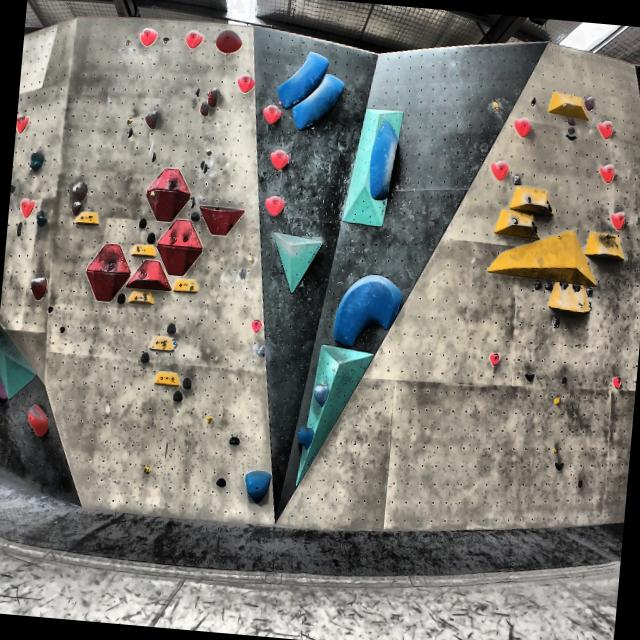Hold: (484, 222, 600, 284), (328, 267, 406, 353), (290, 71, 350, 134), (152, 217, 208, 276), (276, 50, 328, 111), (144, 166, 196, 225), (82, 241, 131, 302), (368, 116, 400, 203), (194, 199, 248, 239), (492, 208, 548, 246), (582, 230, 630, 266), (508, 181, 556, 215), (546, 282, 591, 316), (548, 87, 589, 121), (240, 468, 272, 509), (212, 28, 247, 56), (27, 398, 51, 438), (488, 151, 511, 184), (295, 422, 316, 452), (153, 366, 183, 386), (263, 192, 286, 218), (310, 380, 330, 408), (130, 243, 158, 262), (261, 103, 285, 125), (129, 290, 157, 308), (30, 273, 48, 301), (270, 147, 290, 172), (74, 210, 101, 228), (236, 70, 256, 94), (596, 162, 616, 186), (28, 151, 48, 174), (512, 117, 532, 140), (138, 25, 158, 47), (18, 196, 36, 220), (597, 117, 614, 142), (72, 177, 90, 200), (173, 279, 200, 294), (150, 335, 173, 352), (144, 110, 162, 131), (186, 30, 204, 50), (582, 96, 600, 116), (206, 85, 220, 108), (16, 114, 32, 134), (34, 212, 50, 230), (612, 209, 628, 227), (254, 343, 269, 360), (198, 100, 210, 120), (170, 389, 185, 405), (250, 317, 264, 333), (610, 376, 622, 392), (522, 370, 538, 382), (70, 201, 82, 217), (215, 476, 228, 490), (488, 352, 501, 366), (167, 320, 179, 335), (139, 214, 149, 231), (227, 432, 240, 445), (512, 170, 524, 183), (146, 230, 157, 244), (138, 351, 150, 363), (570, 280, 582, 292), (115, 292, 126, 305), (183, 374, 193, 388), (551, 314, 561, 328), (557, 278, 568, 290), (542, 199, 552, 212), (566, 116, 580, 125), (554, 460, 564, 470), (530, 98, 540, 108), (524, 194, 534, 204), (532, 280, 542, 290), (559, 374, 567, 386), (530, 219, 538, 231), (585, 286, 594, 296), (248, 256, 257, 266), (566, 135, 578, 142), (554, 395, 562, 405), (576, 478, 584, 488), (508, 217, 519, 224), (567, 126, 576, 134), (492, 98, 498, 109), (552, 446, 560, 454), (546, 282, 553, 290)
